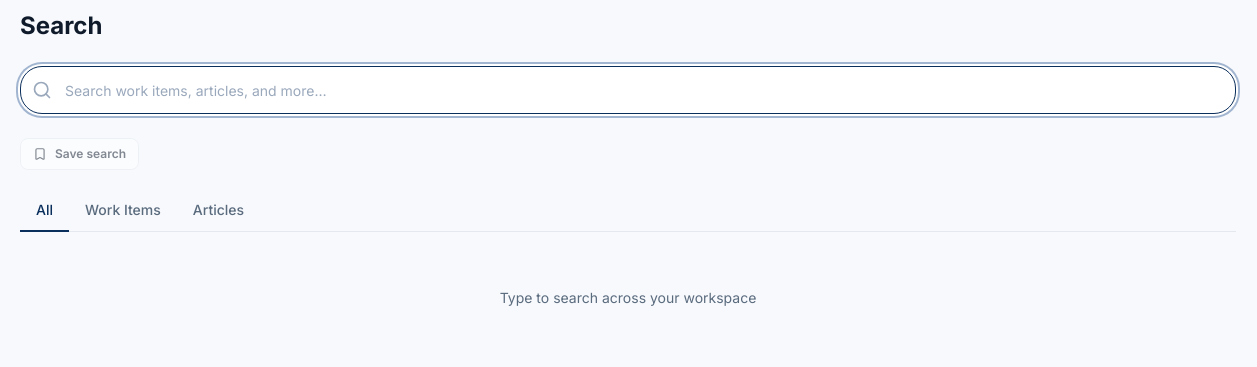
Test: SearchView › renders work item results with title
Type "login" into the search field at (628, 90), box x1=20 y1=66 x2=1236 y2=114
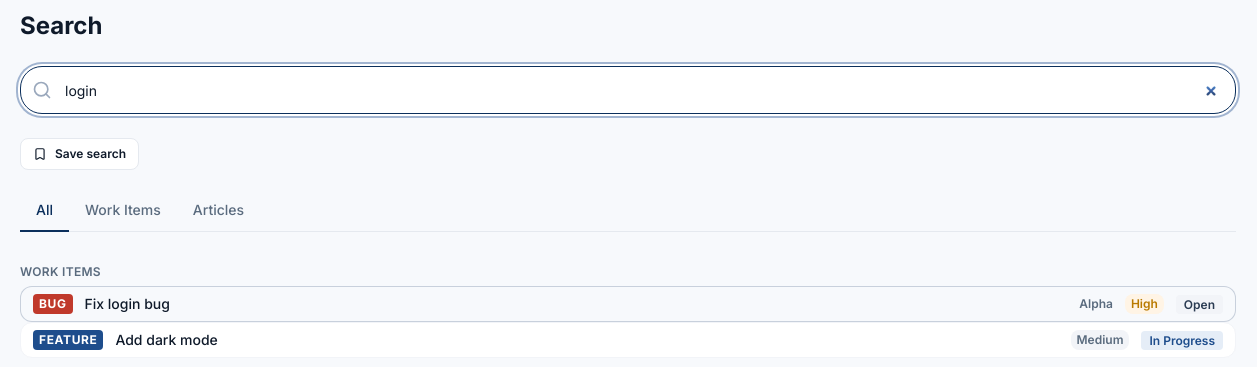
Result: the text "Fix login bug" is shown at x1=84 y1=295 x2=170 y2=312
Result: the text "Add dark mode" is shown at x1=115 y1=331 x2=218 y2=348
